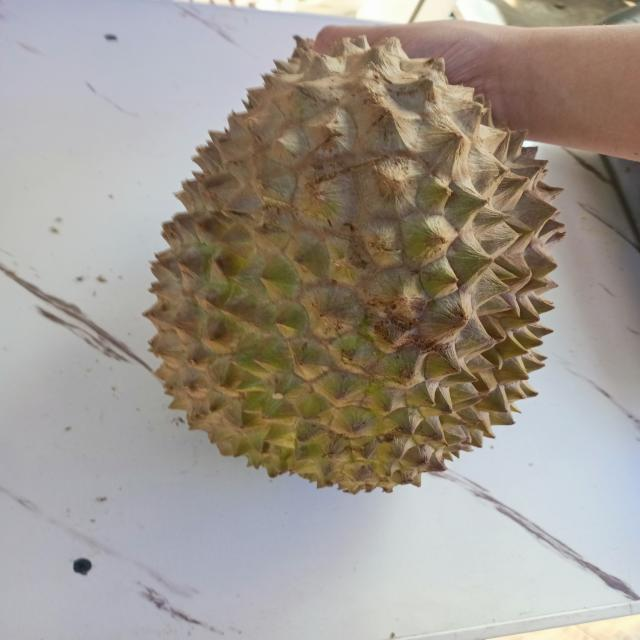mature: (142, 21, 565, 524)
